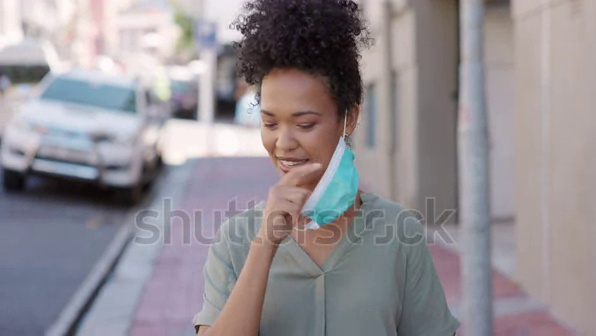No Mask: (262, 136, 327, 181)
